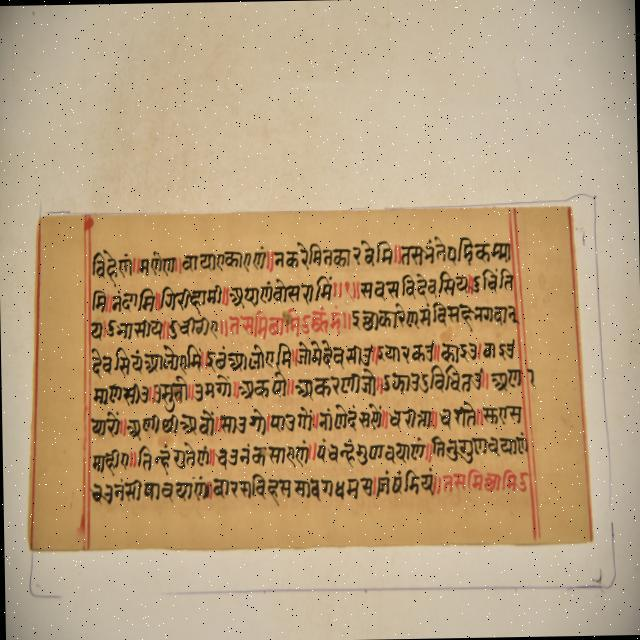text_paragraph: (31, 203, 594, 550)
